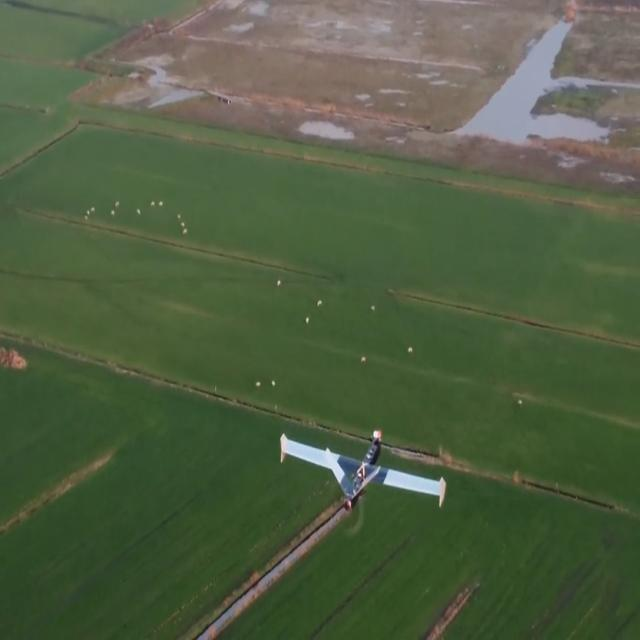iha: (274, 457, 449, 483)
